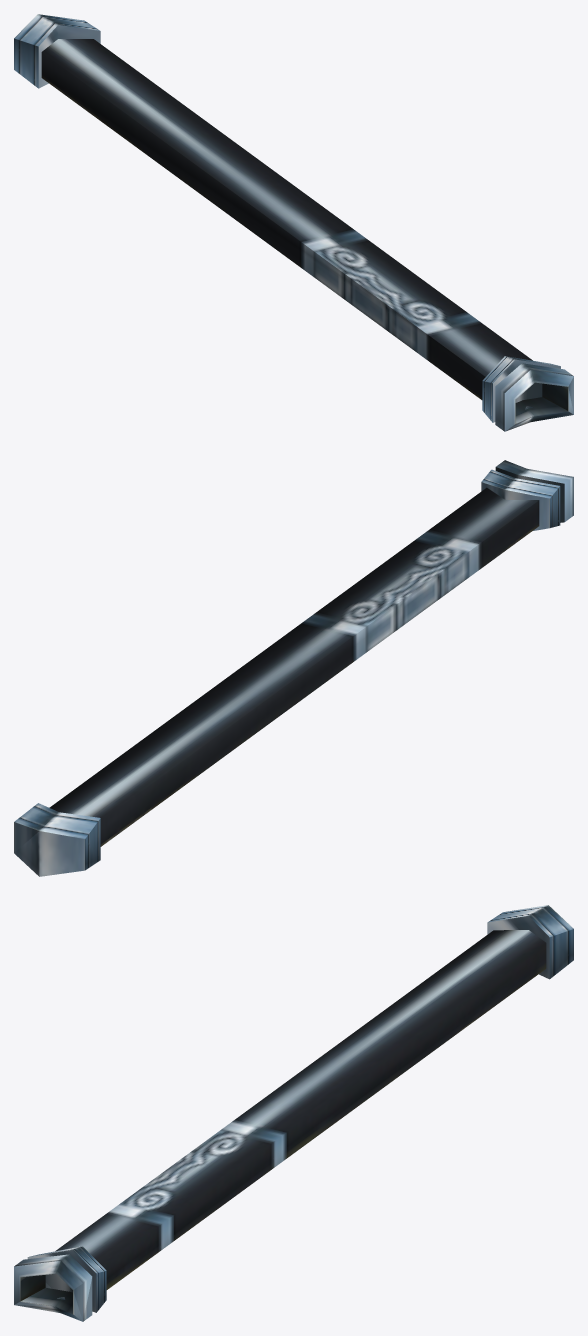
3 views of the same model, one above another, from view 1: azimuth 30°, elevation 25°; view 2: azimuth 150°, elevation 25°; view 3: azimuth 330°, elevation 25° (orthographic).
Parts seen in each view (by area): view 1: W900L; view 2: W900L; view 3: W900L.
Part boxes in pixels (x1=…): W900L: x1=14, y1=14, x2=573, y2=431; W900L: x1=14, y1=460, x2=573, y2=876; W900L: x1=14, y1=905, x2=573, y2=1321.
Bounding box in the file's own units: 1.75 × 1.28 × 21.55.
Materials: 1 (1 with a texture image).
